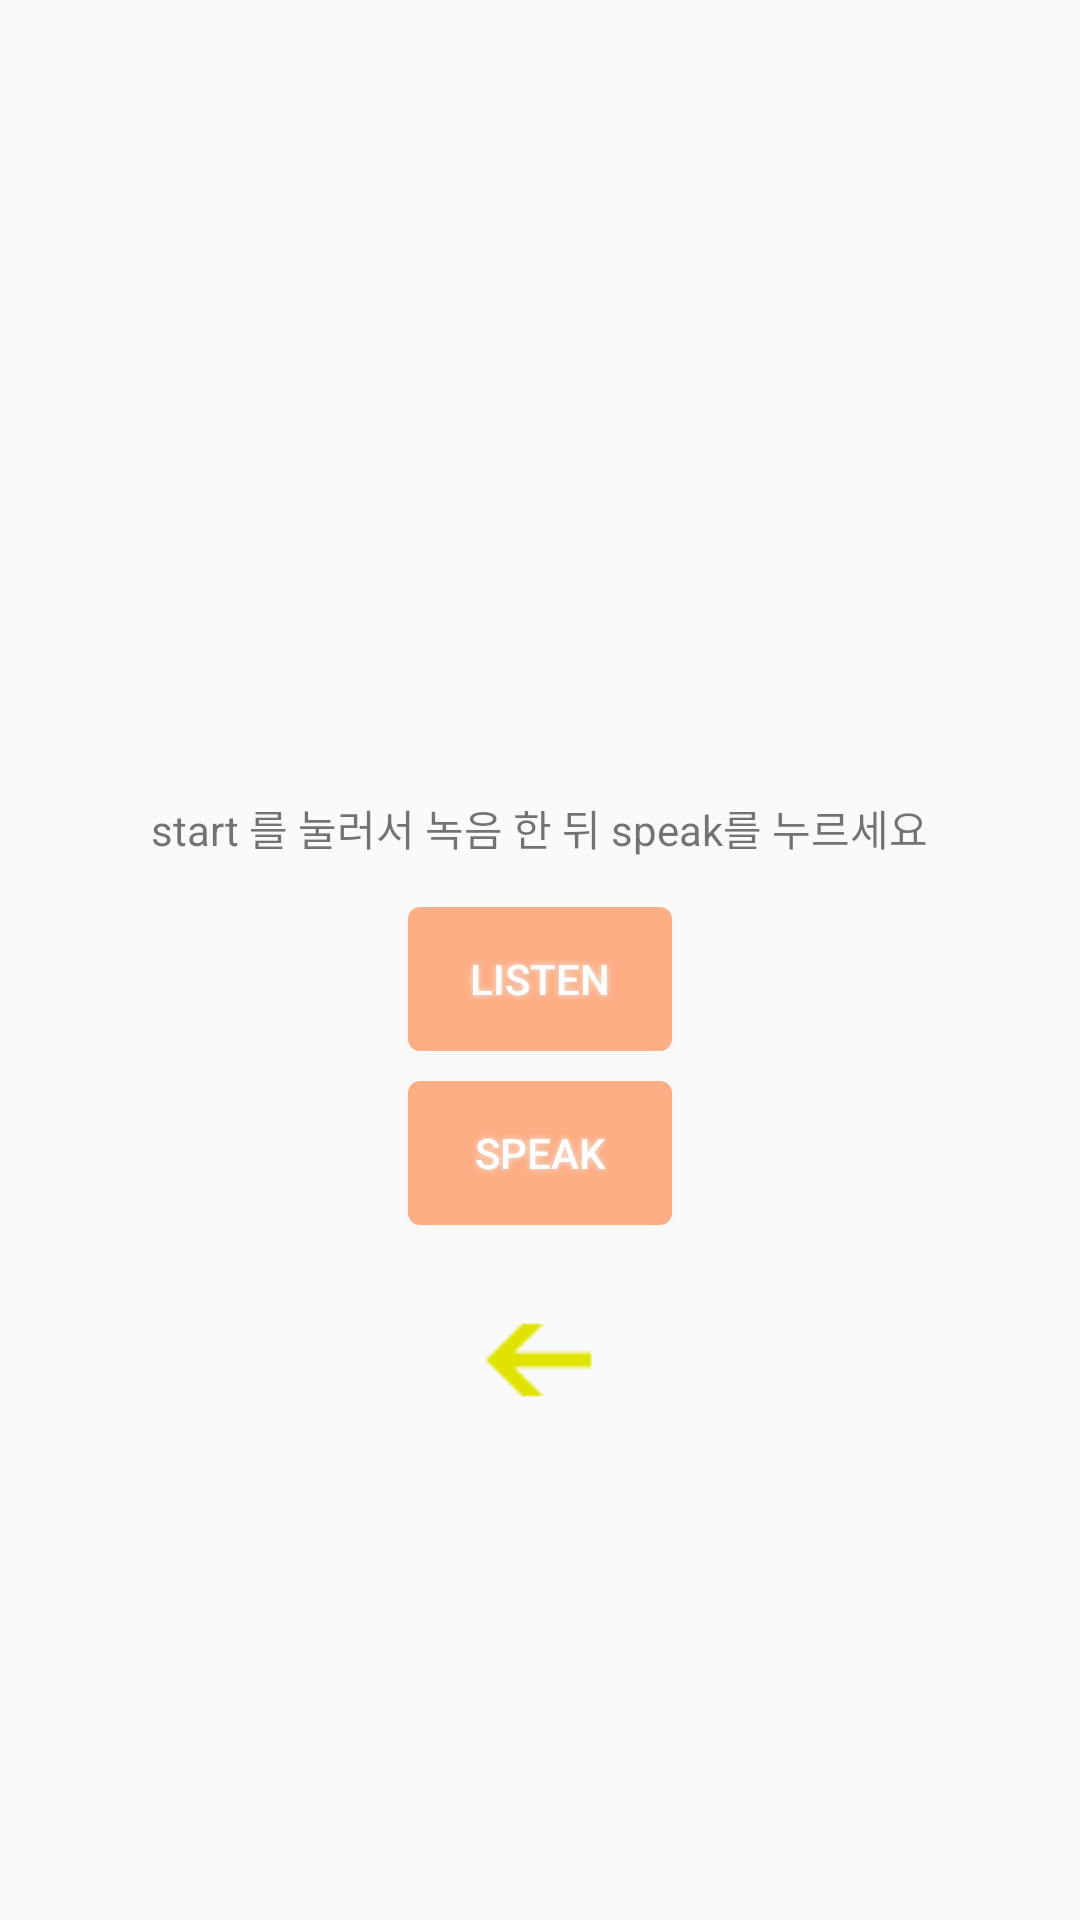

Named icons in this screenshot (1080*1920) and their centers, (x,y):
back: (538,1360)
